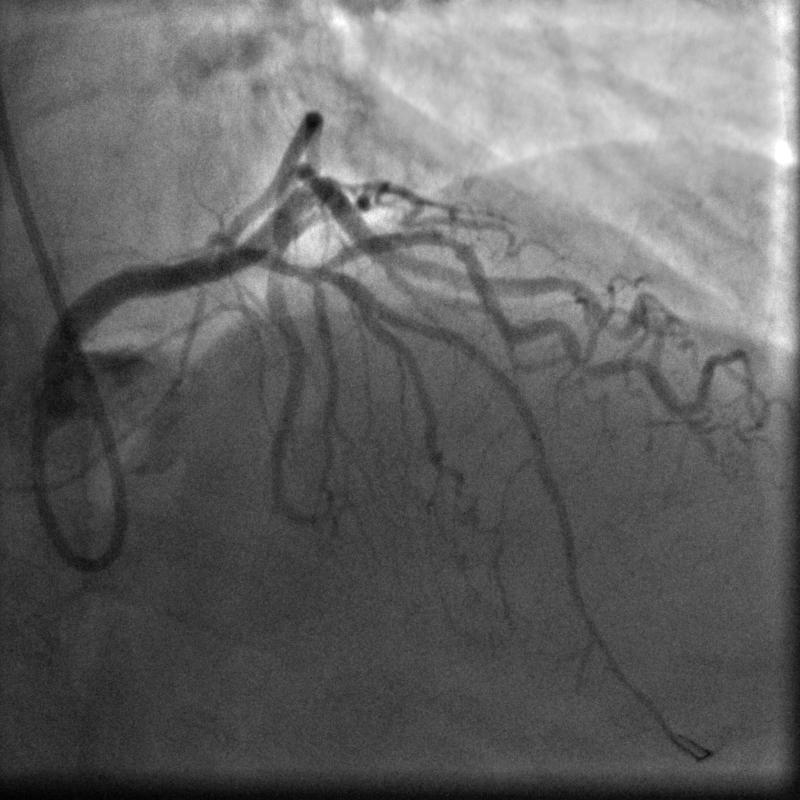Stenosis: (429, 224, 468, 265)
